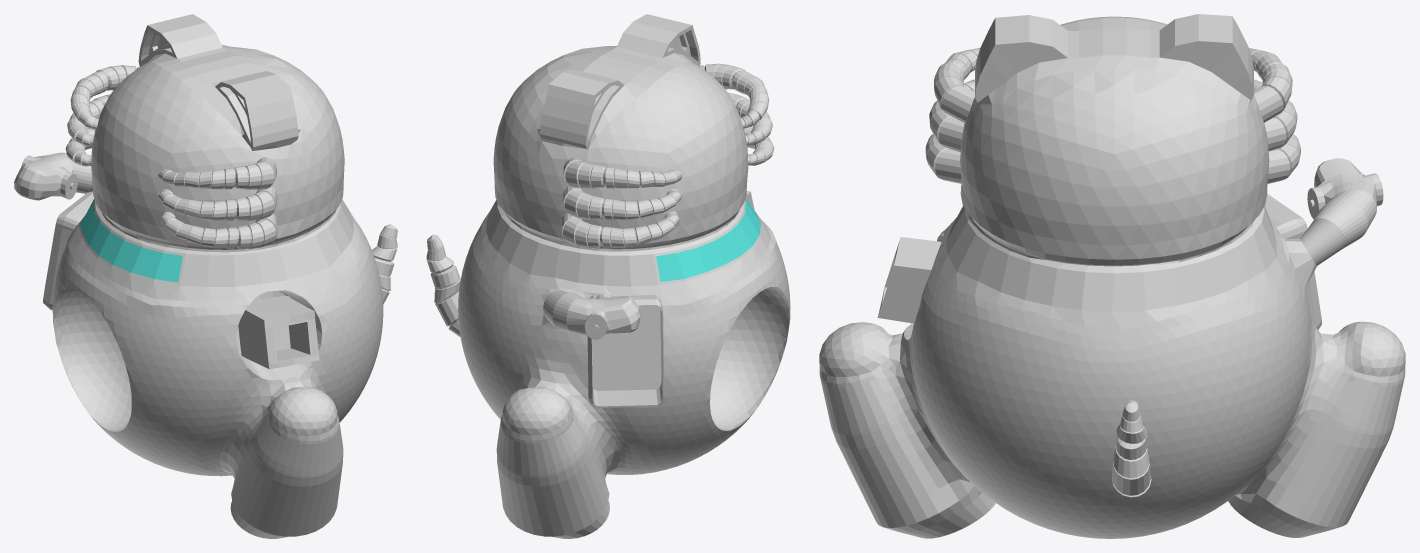
File: MechTestNonUV.fbx
3 renders of one model, left to right at view 1: azimuth 30°, elevation 25°; view 2: azimuth 150°, elevation 25°; view 3: azimuth 270°, elevation 25°, orthographic. The views are drawn at different scales.
Visible parts, largest first — view 1: CatMech; view 2: CatMech; view 3: CatMech.
Boxes of the visible parts, x1,y1,x2,y2 form: CatMech: (14,14,397,538); CatMech: (426,14,790,538); CatMech: (819,14,1405,538).
Bounding box in the file's own units: 17142 × 21402 × 22194.
